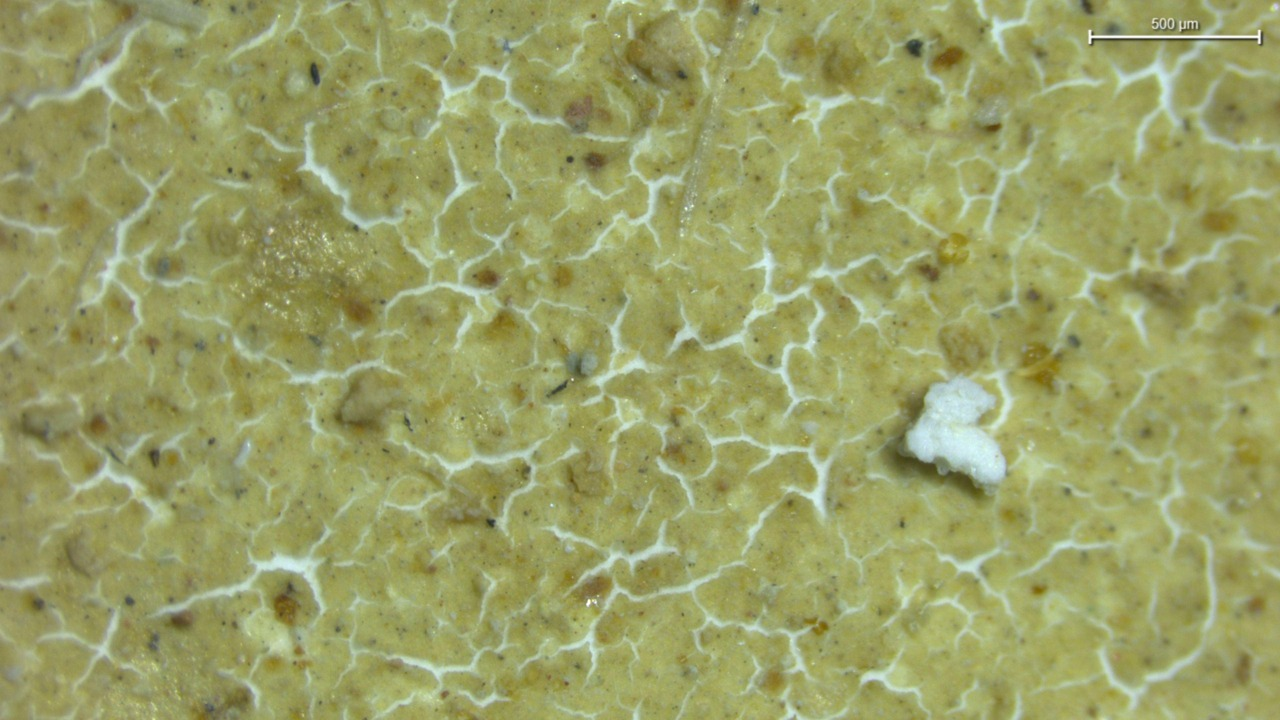microplastic_fragment: (897, 378, 1007, 497)
